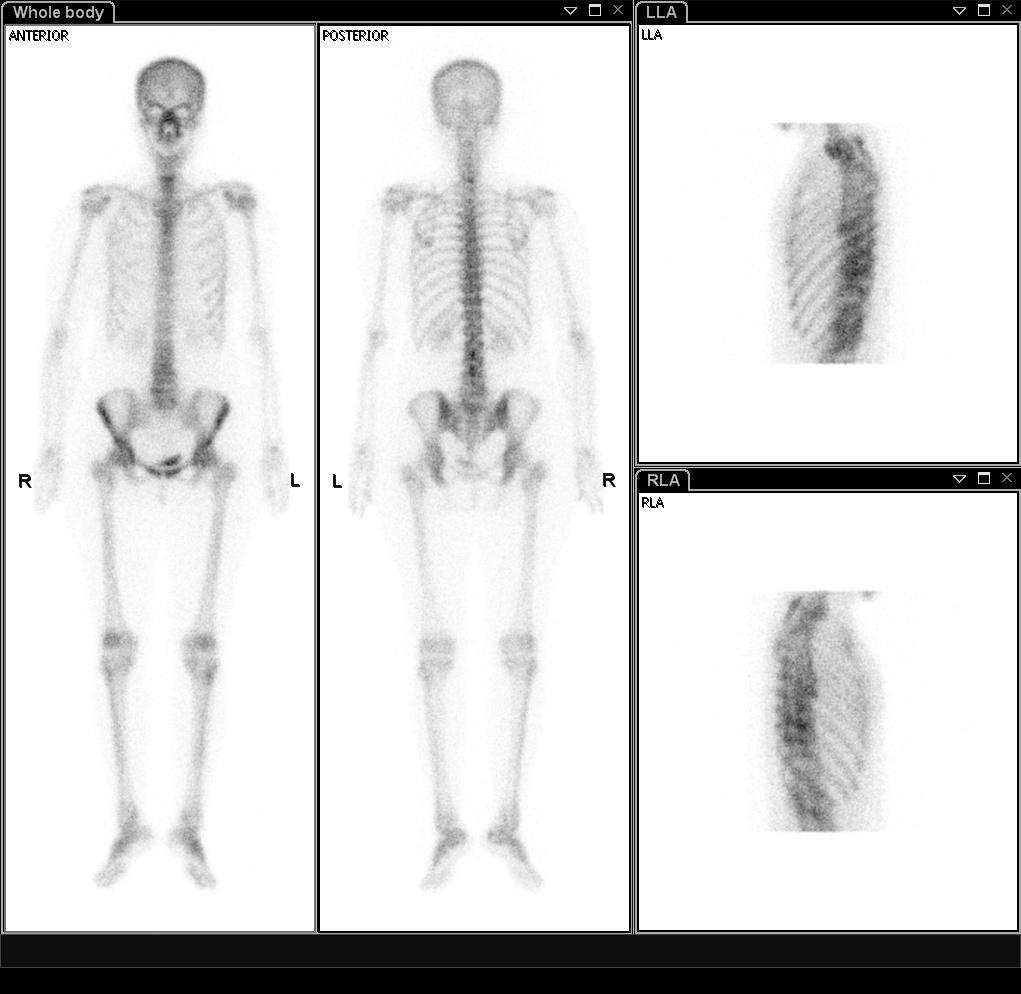person: (4, 24, 633, 935)
